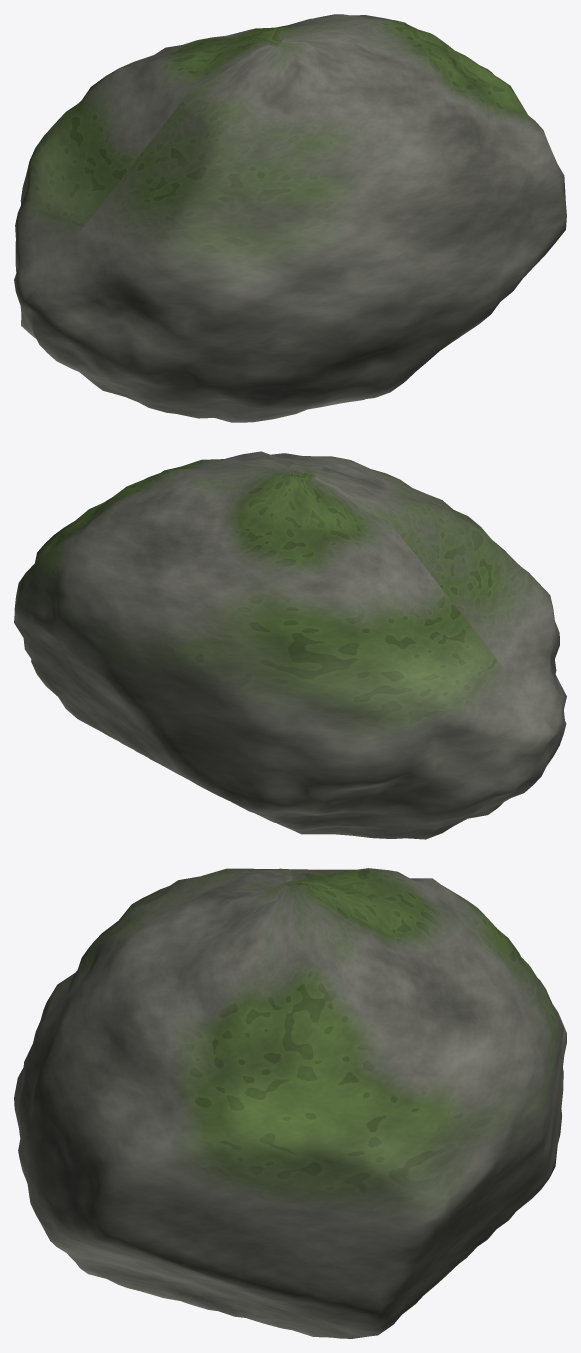
File: PZ_R02_Angular_Fieldstone_Moss.glb
3 renders of one model, top to bottom at view 1: azimuth 30°, elevation 25°; view 2: azimuth 150°, elevation 25°; view 3: azimuth 270°, elevation 25°, orthographic. The views are drawn at different scales.
Parts seen in each view (by area): view 1: RENDER_R02_Angular_Fieldstone_Moss; view 2: RENDER_R02_Angular_Fieldstone_Moss; view 3: RENDER_R02_Angular_Fieldstone_Moss.
Part boxes in pixels (left/top/right/bottom): RENDER_R02_Angular_Fieldstone_Moss: left=14, top=14, right=566, bottom=422; RENDER_R02_Angular_Fieldstone_Moss: left=14, top=451, right=566, bottom=839; RENDER_R02_Angular_Fieldstone_Moss: left=14, top=868, right=566, bottom=1338.
Bounding box in the file's own units: 0.55 × 0.34 × 0.43.
Materials: 1 (1 with a texture image).
